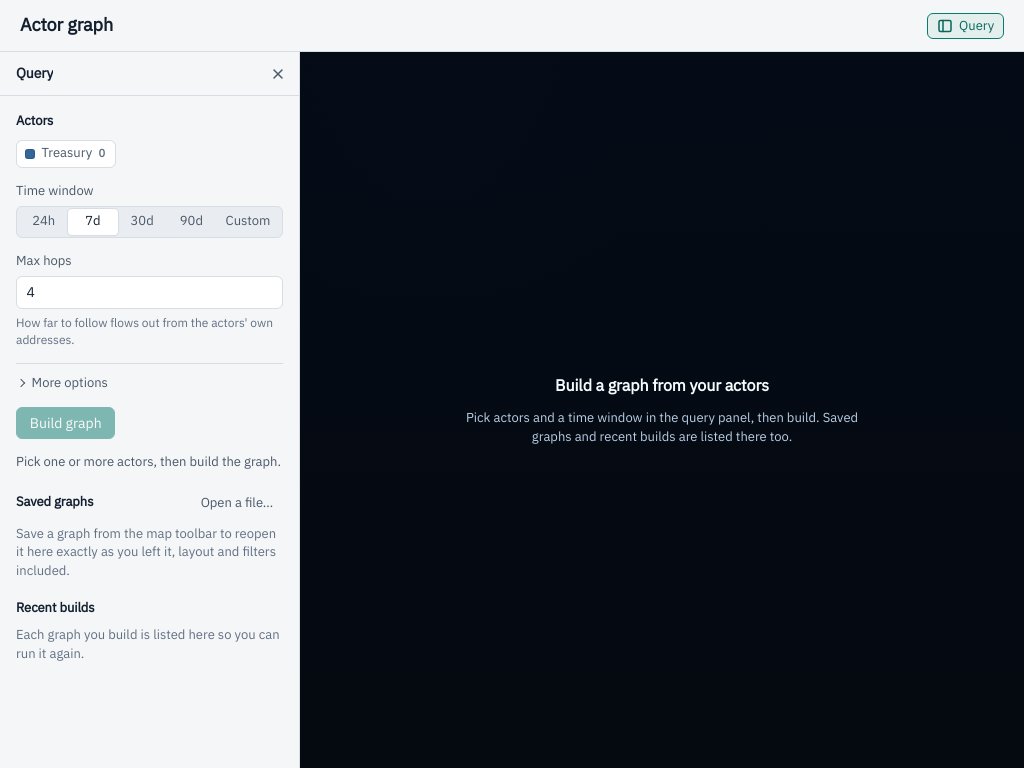
Test: ActorGraphPage › reports the background job's final warnings
Expected: the text "Treasury" is shown, [41, 144, 92, 163]
What coordinates should you click on to do the following:
click the checkbox labelled "Treasury 0"
I would click on:
 (32, 154)
Its box is [25, 146, 40, 161].
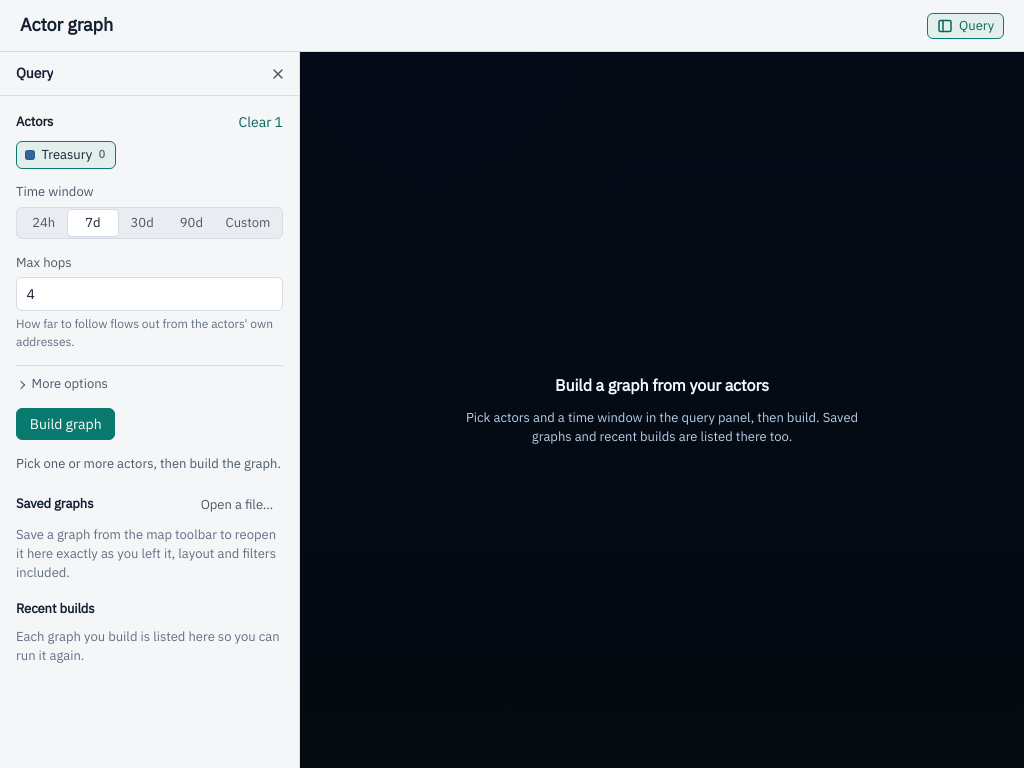
What coordinates should you click on to do the following:
click the button "Build graph"
I would click on:
 (66, 424)
Its box is [16, 408, 116, 440].
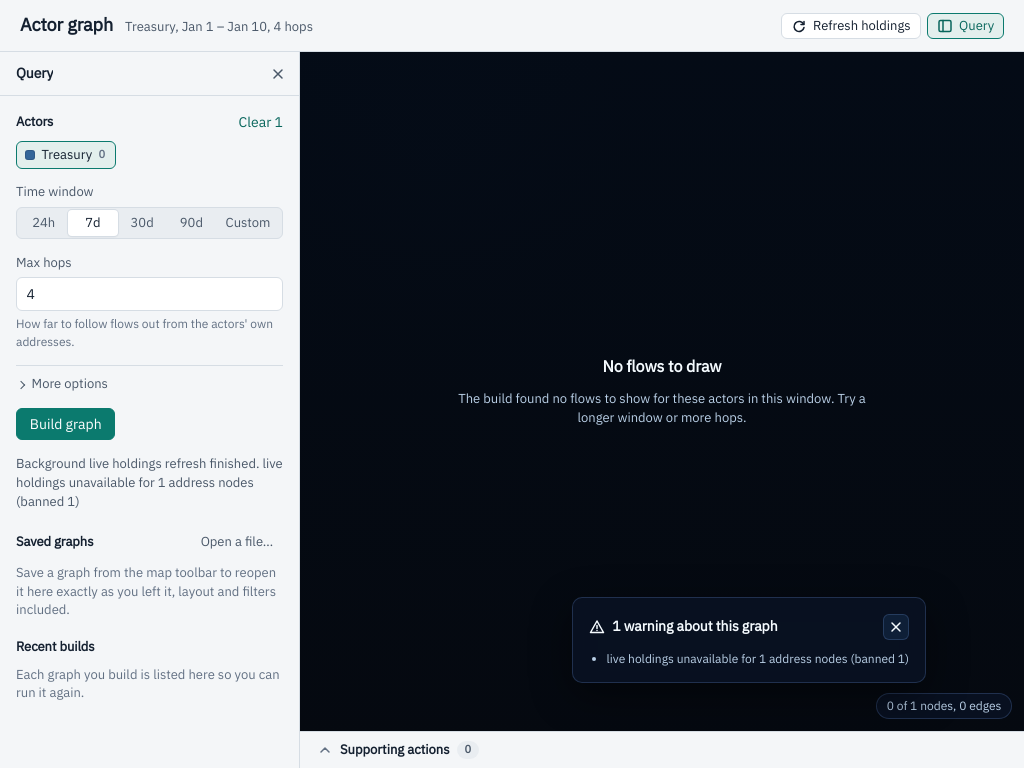
Expected: the text "Treasury, Jan 1 – Jan 10, 4 hops" is shown, [125, 18, 313, 37]
Expected: the text "Background live holdings refresh finished." is shown, [16, 455, 283, 510]
